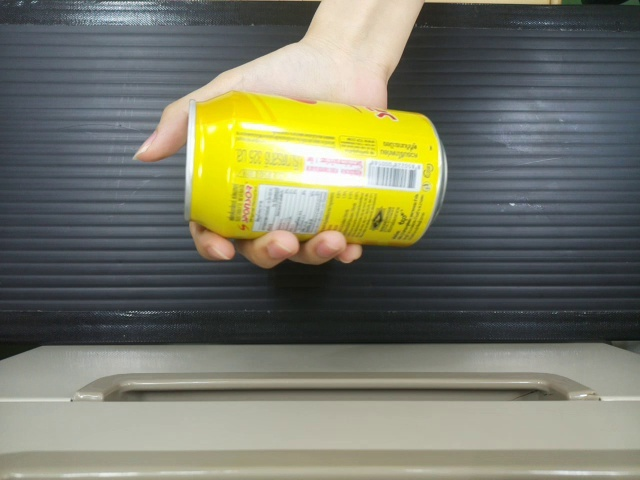can: (182, 90, 444, 233)
